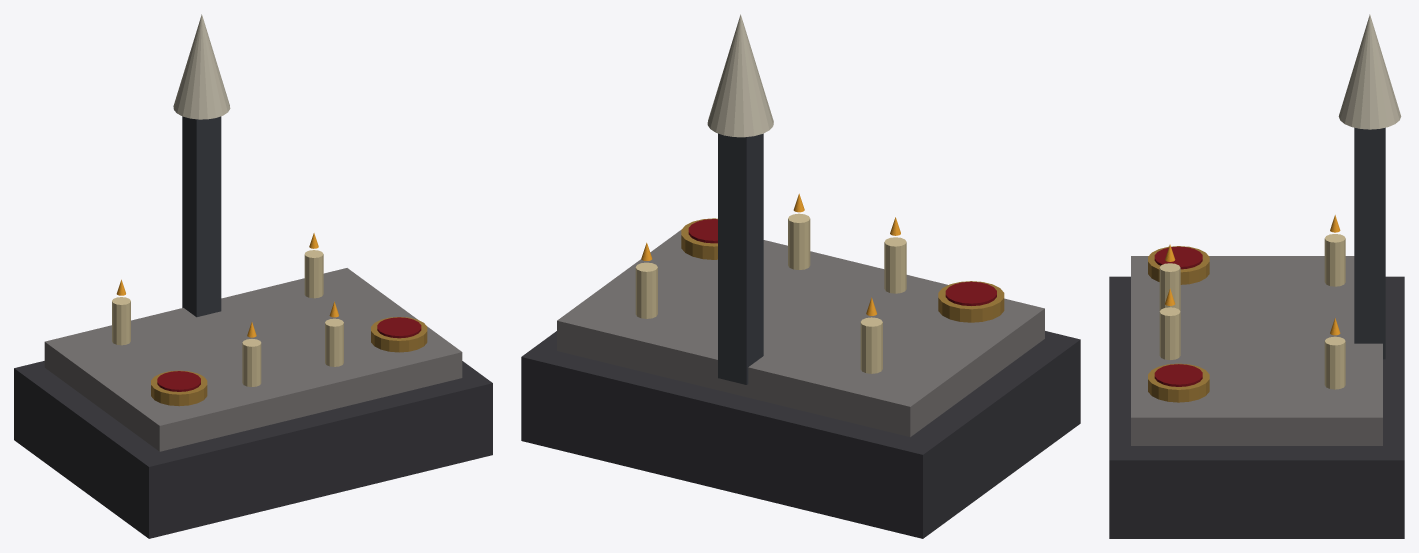
The model's file is Ritual_Altar.obj.
The picture shows the model from 3 angles, left to right: view 1: azimuth 30°, elevation 25°; view 2: azimuth 150°, elevation 25°; view 3: azimuth 270°, elevation 25°; orthographic projection. The views are drawn at different scales.
Parts seen in each view (by area): view 1: Base, Top, Back_Spike, Sacrifice_Spike, Bowl_-0.8, Bowl_0.8, Candle_1, Candle_2, Candle_0, Candle_3, Blood_0.8, Blood_-0.8; view 2: Base, Top, Back_Spike, Sacrifice_Spike, Bowl_-0.8, Candle_0, Candle_2, Candle_1, Candle_3, Blood_-0.8, Bowl_0.8; view 3: Top, Base, Back_Spike, Sacrifice_Spike, Bowl_0.8, Candle_1, Candle_3, Candle_0, Bowl_-0.8, Blood_0.8, Candle_2, Blood_-0.8.
Boxes of the visible parts, <box> form: Base: <box>14,361,492,538</box>; Top: <box>44,268,462,451</box>; Back_Spike: <box>182,116,221,317</box>; Sacrifice_Spike: <box>173,14,230,119</box>; Bowl_-0.8: <box>151,370,207,406</box>; Bowl_0.8: <box>371,317,427,352</box>; Candle_1: <box>304,250,323,298</box>; Candle_2: <box>242,339,261,386</box>; Candle_0: <box>112,297,130,345</box>; Candle_3: <box>325,318,343,366</box>; Blood_0.8: <box>377,317,421,338</box>; Blood_-0.8: <box>157,371,200,391</box>; Base: <box>521,331,1080,538</box>; Top: <box>557,230,1044,436</box>; Back_Spike: <box>718,133,763,384</box>; Sacrifice_Spike: <box>707,14,773,137</box>; Bowl_-0.8: <box>938,281,1004,322</box>; Candle_0: <box>860,317,882,373</box>; Candle_2: <box>884,237,906,293</box>; Candle_1: <box>635,262,657,318</box>; Candle_3: <box>788,213,810,269</box>; Blood_-0.8: <box>945,281,996,305</box>; Bowl_0.8: <box>681,218,717,259</box>; Top: <box>1131,256,1382,445</box>; Base: <box>1109,276,1404,538</box>; Back_Spike: <box>1354,127,1385,359</box>; Sacrifice_Spike: <box>1338,14,1401,129</box>; Bowl_0.8: <box>1148,363,1209,402</box>; Candle_1: <box>1324,336,1345,389</box>; Candle_3: <box>1159,307,1180,359</box>; Candle_0: <box>1324,234,1345,286</box>; Bowl_-0.8: <box>1148,246,1209,284</box>; Blood_0.8: <box>1154,364,1202,386</box>; Candle_2: <box>1159,263,1180,311</box>; Blood_-0.8: <box>1154,246,1202,269</box>.
Bounding box in the file's own units: 2.5 × 2.75 × 1.7.
